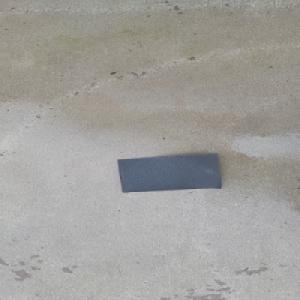PaintChip: (116, 153, 225, 193)
